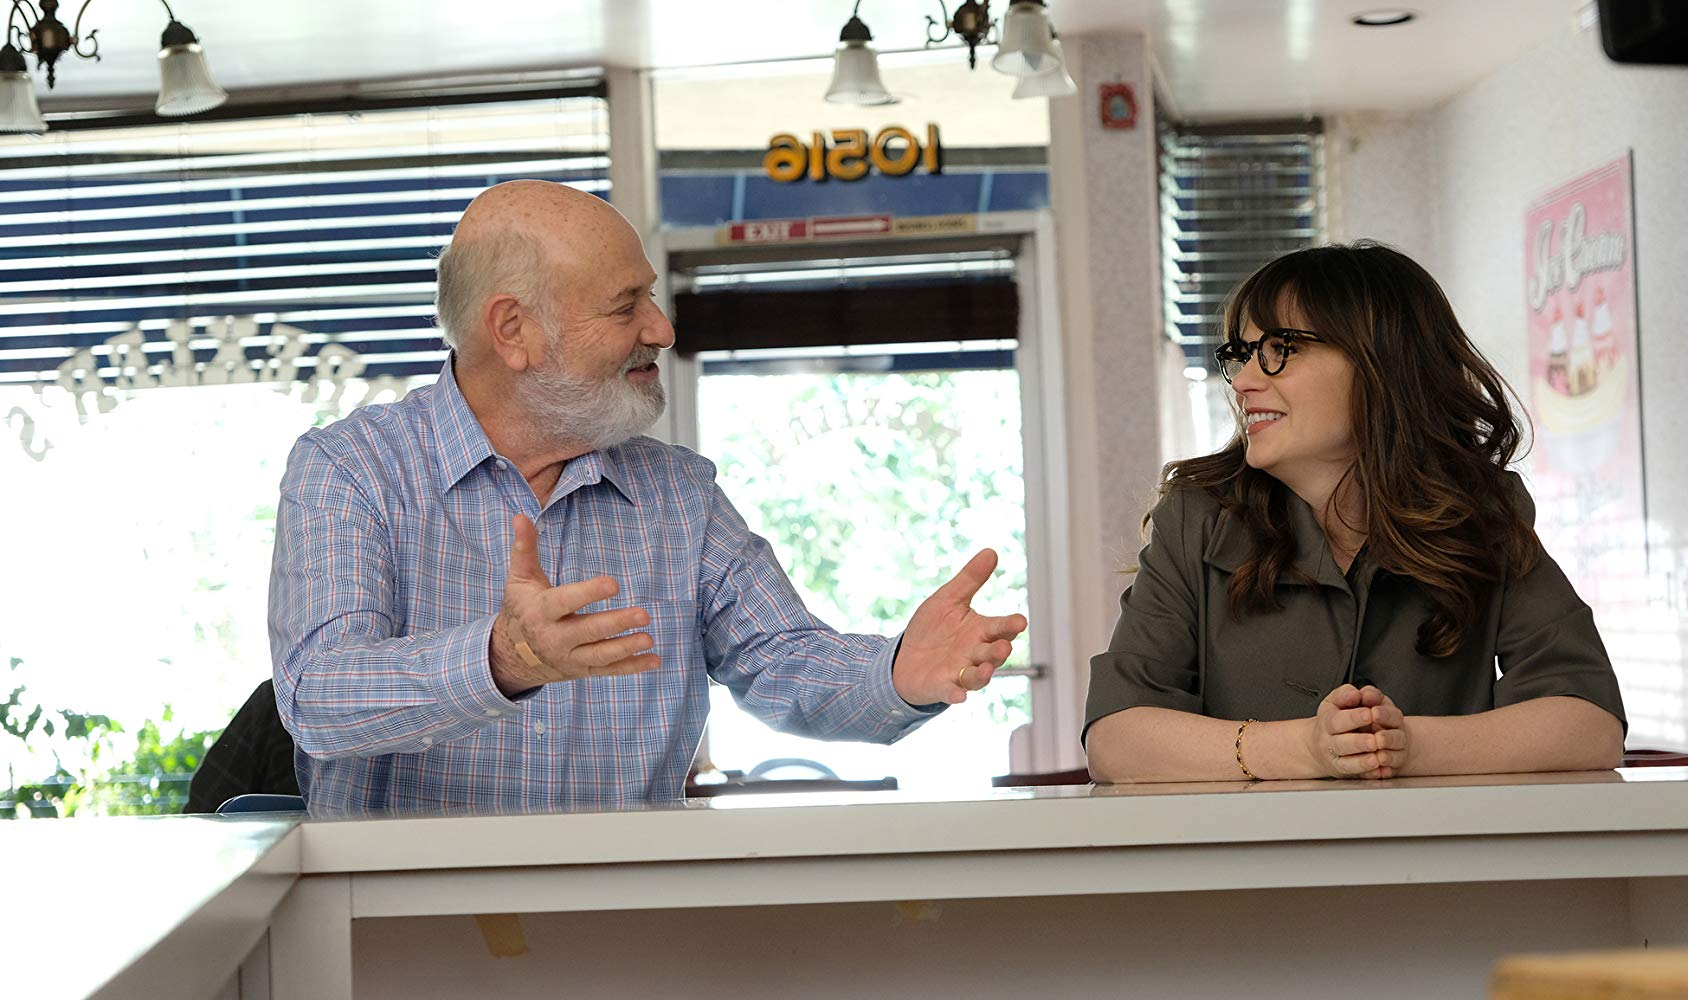person: (266, 174, 1056, 790), (1083, 213, 1657, 765)
